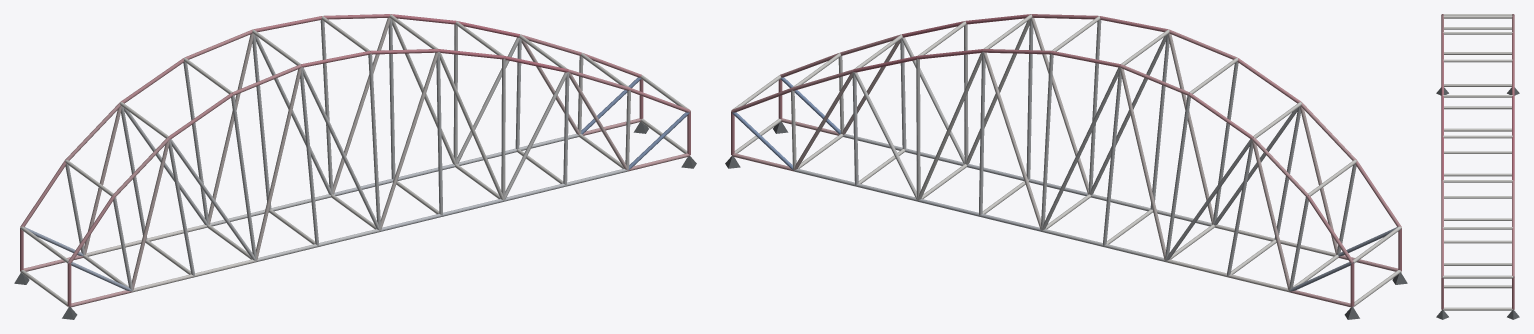
File: bridge-force-model.glb
The picture shows the model from 3 angles, left to right: view 1: azimuth 30°, elevation 25°; view 2: azimuth 150°, elevation 25°; view 3: azimuth 270°, elevation 25°; orthographic projection. The views are drawn at different scales.
Parts seen in each view (by area): view 1: Members/M013_compression, Members/M015_compression, Members/M054_compression, Members/M014_tension, Members/M024_tension, Members/M025_tension, Members/M056_compression, Members/M023_tension, Members/M065_tension, Members/M026_tension, Members/M066_tension, Members/M016_tension (+17 smaller); view 2: Members/M054_compression, Members/M056_compression, Members/M013_compression, Members/M055_tension, Members/M065_tension, Members/M066_tension, Members/M015_compression, Members/M064_tension, Members/M024_tension, Members/M067_tension, Members/M025_tension, Members/M057_tension (+17 smaller); view 3: Members/M103_tension, Members/M092_tension, Members/M096_tension, Members/M098_tension, Members/M100_tension, Members/M083_tension, Members/M084_compression, Members/M086_compression, Members/M089_compression, Members/M091_tension, Members/M101_compression, Members/M102_compression (+26 smaller).
Part boxes in pixels (box(x1,y1,x2,y2)): Members/M013_compression: box(256, 67, 301, 260); Members/M015_compression: box(380, 52, 438, 230); Members/M054_compression: box(208, 33, 253, 224); Members/M014_tension: box(302, 67, 380, 230); Members/M024_tension: box(300, 67, 318, 245); Members/M025_tension: box(368, 53, 380, 229); Members/M056_compression: box(333, 17, 390, 194); Members/M023_tension: box(231, 93, 256, 260); Members/M065_tension: box(252, 34, 271, 209); Members/M026_tension: box(436, 52, 442, 215); Members/M066_tension: box(320, 20, 333, 194); Members/M016_tension: box(439, 52, 503, 200); Members/M054_compression: box(1120, 67, 1165, 260); Members/M056_compression: box(983, 52, 1041, 230); Members/M013_compression: box(1168, 33, 1213, 224); Members/M055_tension: box(1041, 67, 1119, 230); Members/M065_tension: box(1103, 67, 1121, 245); Members/M066_tension: box(1041, 53, 1053, 229); Members/M015_compression: box(1031, 17, 1088, 194); Members/M064_tension: box(1165, 93, 1190, 260); Members/M024_tension: box(1150, 34, 1169, 209); Members/M067_tension: box(979, 52, 985, 215); Members/M025_tension: box(1088, 20, 1101, 194); Members/M057_tension: box(918, 52, 982, 200); Members/M103_tension: box(1442, 275, 1513, 278); Members/M092_tension: box(1442, 307, 1513, 310); Members/M096_tension: box(1443, 15, 1512, 18); Members/M098_tension: box(1443, 59, 1512, 62); Members/M100_tension: box(1443, 135, 1512, 138); Members/M083_tension: box(1444, 106, 1511, 109); Members/M084_compression: box(1444, 128, 1511, 131); Members/M086_compression: box(1444, 173, 1511, 176); Members/M089_compression: box(1444, 240, 1511, 243); Members/M091_tension: box(1444, 285, 1511, 288); Members/M101_compression: box(1443, 180, 1512, 182); Members/M102_compression: box(1443, 227, 1512, 229).
Bounding box in the file's own units: 30.76 × 9.06 × 4.76.
